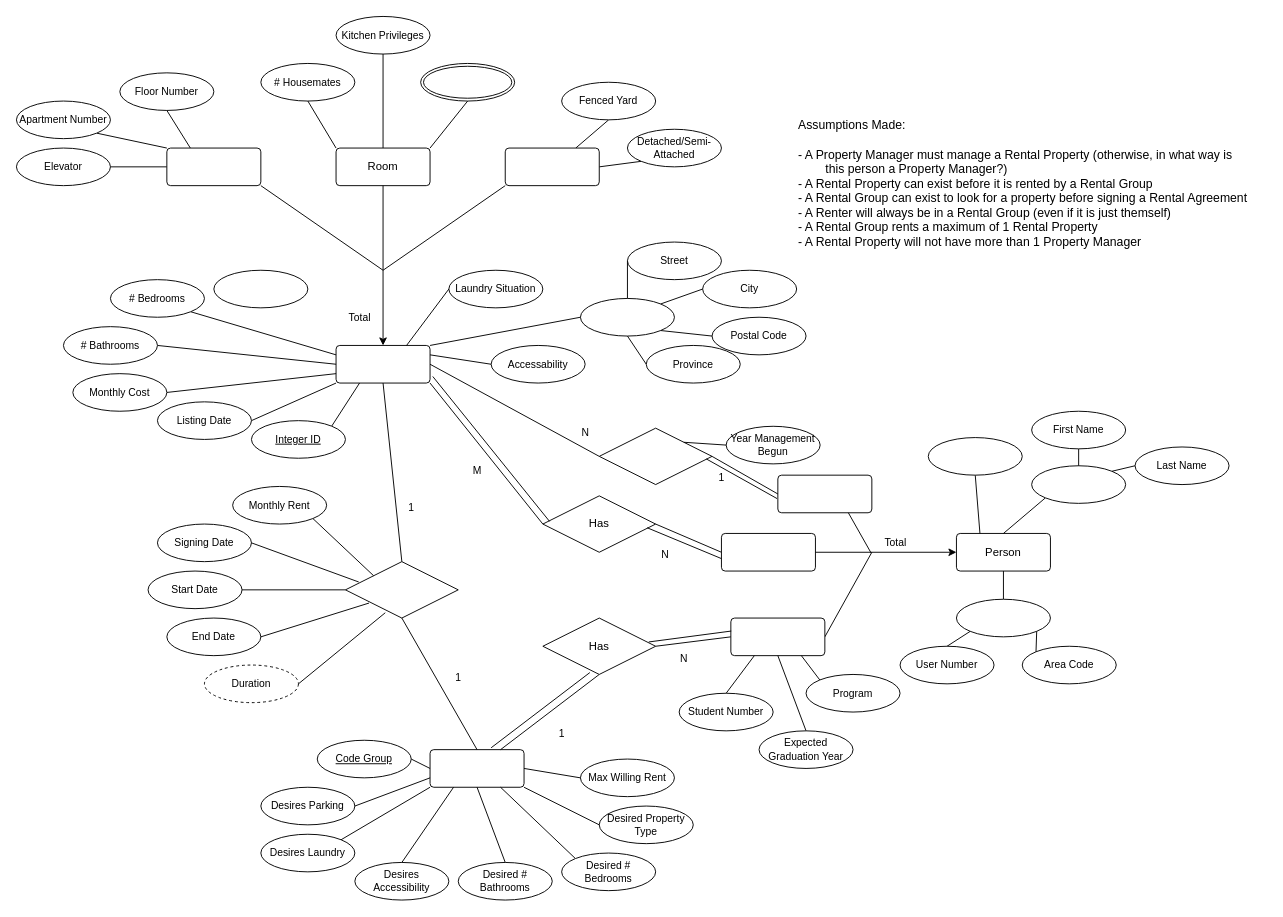
Image size: 1283x917. Some labels were removed from this diagram. The centre of each missing label's shape, as x and y in pixels:
Address: (x=627, y=317)
Apartment: (x=213, y=166)
Furnishings: (x=467, y=82)
House: (x=551, y=166)
ID: (x=974, y=456)
May Have: (x=655, y=456)
Name: (x=1078, y=484)
Owner: (x=768, y=552)
Parking: (x=260, y=288)
Phone Number: (x=1003, y=617)
Property Manager: (x=824, y=493)
Rental Agreement: (x=401, y=589)
Rental Group: (x=476, y=768)
Rental Property: (x=382, y=364)
Renter: (x=777, y=636)
